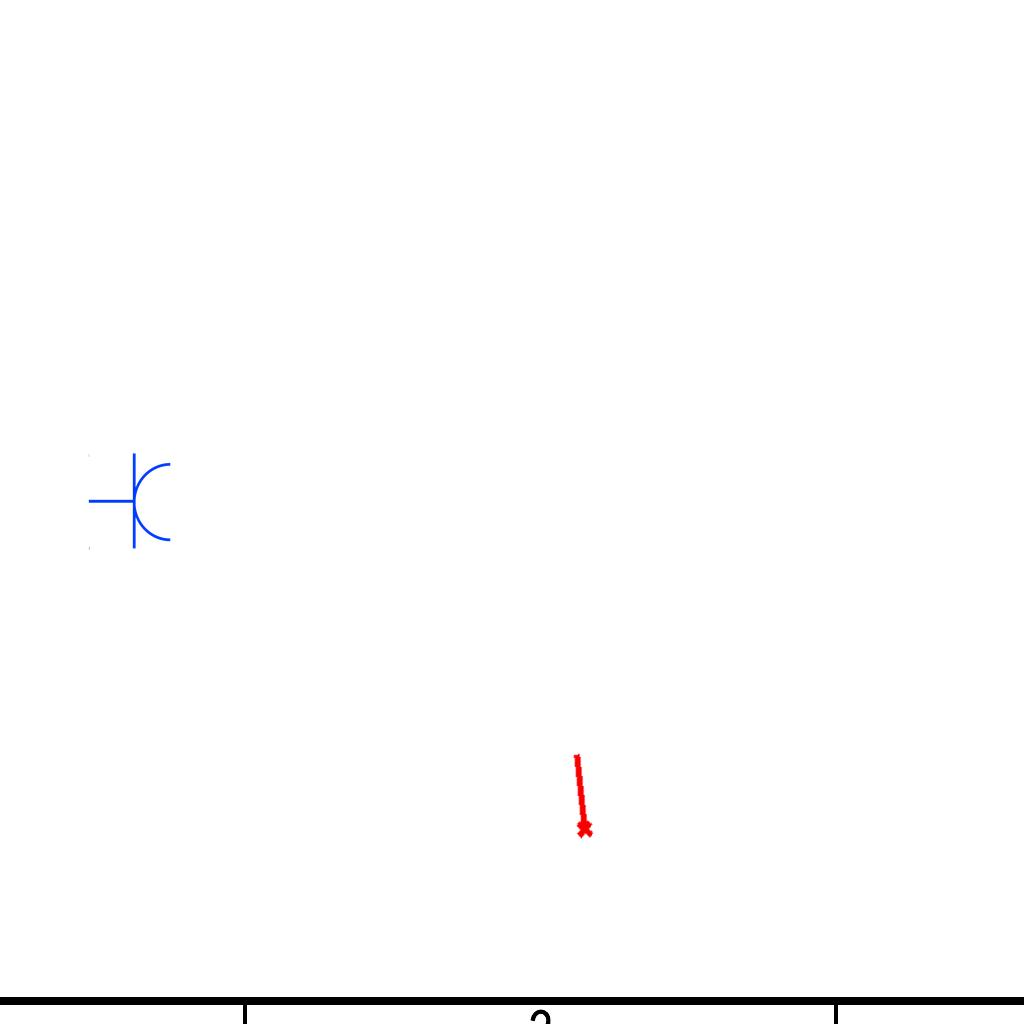ASR_Ansaugoeffnung: (563, 750, 597, 841)
Schukosteckdose_einfach: (88, 452, 175, 552)
